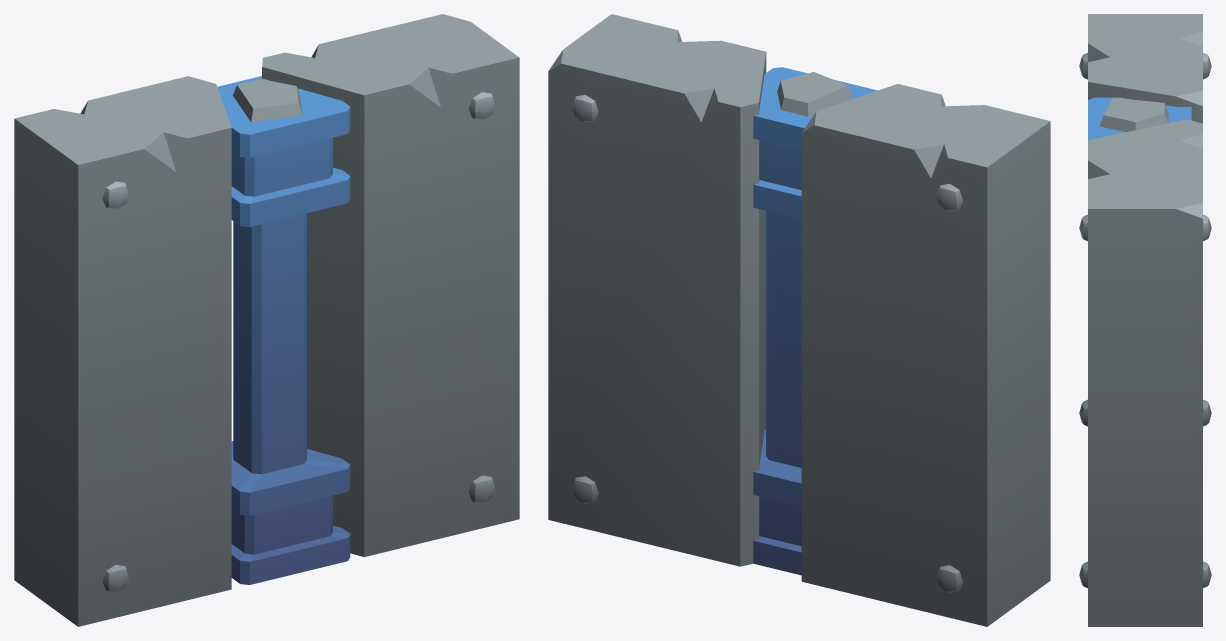
Rendered from wall_B.gltf.glb.
The picture shows the model from 3 angles, left to right: view 1: azimuth 30°, elevation 25°; view 2: azimuth 150°, elevation 25°; view 3: azimuth 270°, elevation 25°; orthographic projection. The views are drawn at different scales.
Visible parts, largest first — view 1: wall_B; view 2: wall_B; view 3: wall_B.
Part boxes in pixels (x1,y1,x2,y2): wall_B: (14, 14, 519, 626); wall_B: (548, 14, 1050, 626); wall_B: (1079, 14, 1211, 626).
Size of the model in its own units: 2 by 2 by 0.5744.
1 material, 1 textured.
